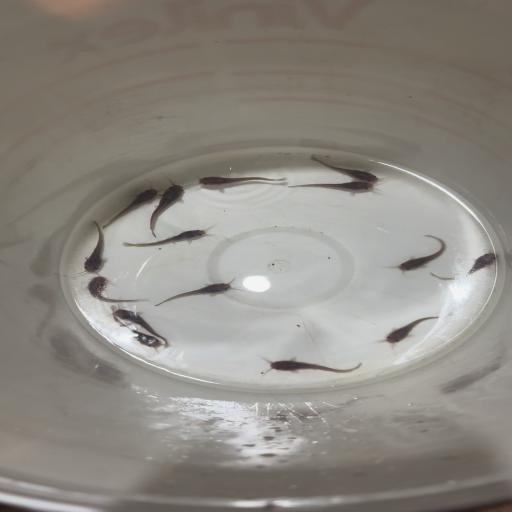lele: (373, 307, 457, 348), (94, 305, 162, 353), (112, 308, 181, 348), (256, 354, 363, 378), (100, 185, 159, 228), (154, 277, 241, 306), (117, 225, 219, 248), (310, 155, 390, 183), (430, 252, 499, 284), (148, 182, 187, 238), (73, 220, 110, 276), (80, 276, 152, 304), (395, 234, 446, 273), (288, 179, 380, 193), (198, 174, 288, 188)
